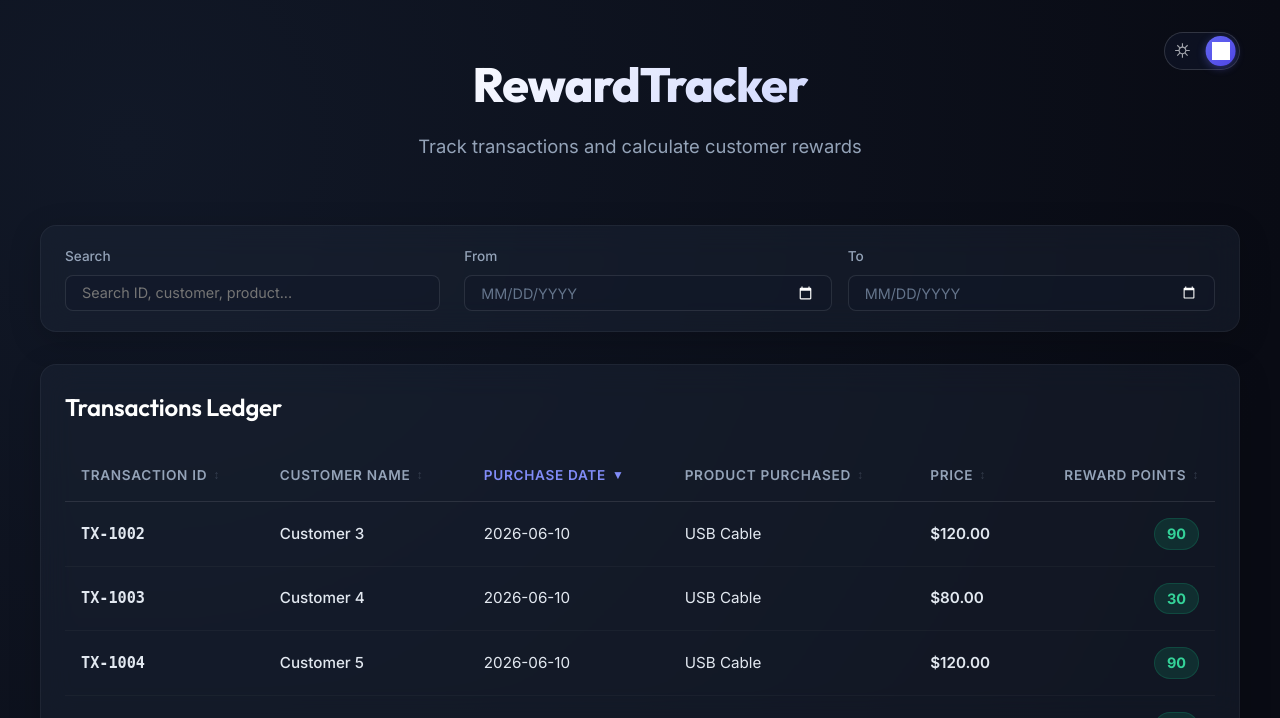
Scenario: App Component Integrations › filters transactions by product name, transaction ID, and customer ID (multi-column search)
Step 1. Type "wireless" into the field with test id "search-input" → point(253, 293), box [65,275,440,311]
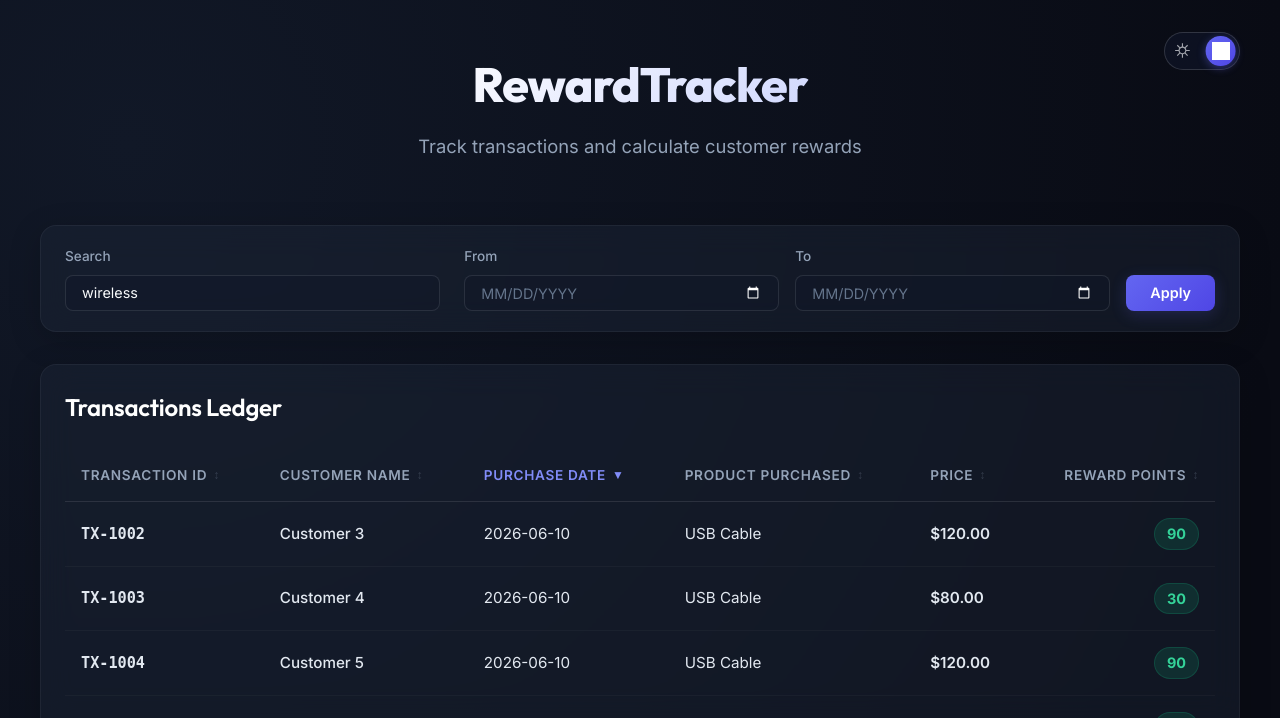
Step 2. Click the button with test id "apply-filters-btn" → point(1171, 293), box [1126,275,1215,311]
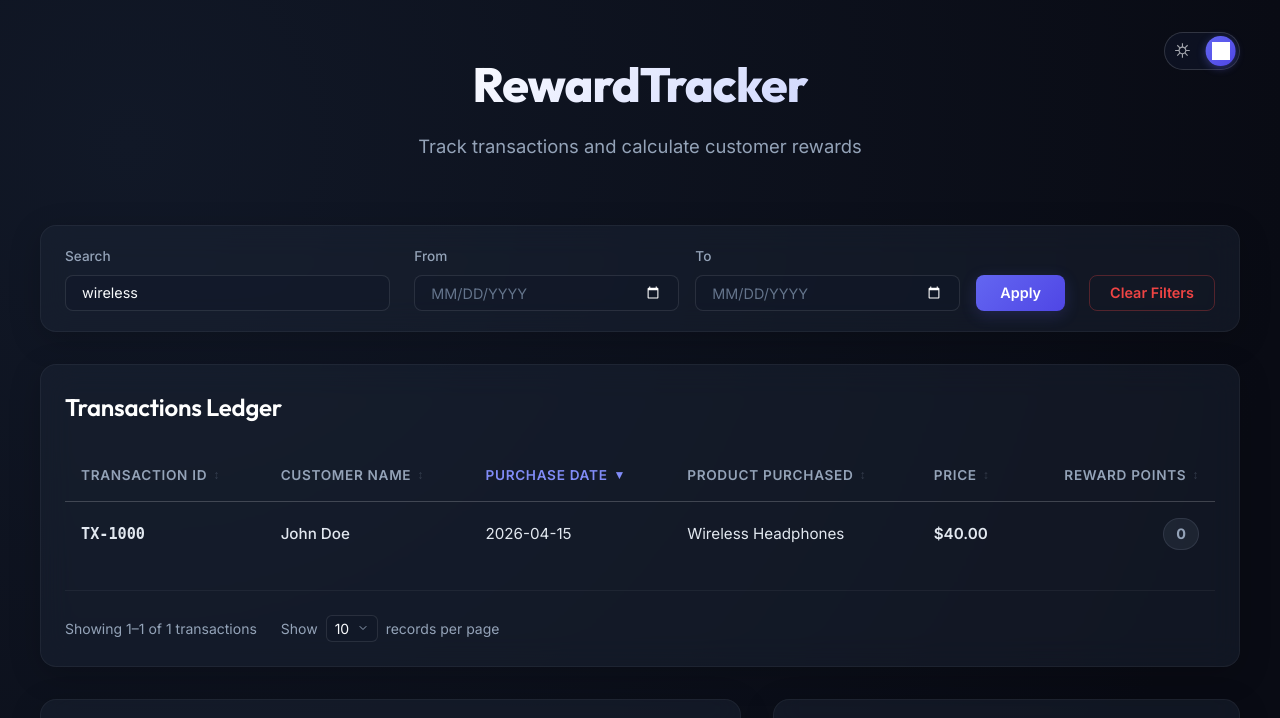
Expected: the text with test id "pagination-stats" reads "Showing 1–1 of 1 transactions", [65,618,257,639]
Expected: the text "Wireless Headphones" is shown, [671,502,918,566]
Step 3. Replace the text in the field with test id "search-input" with "TX-1001" → point(228, 293), box [65,275,390,311]
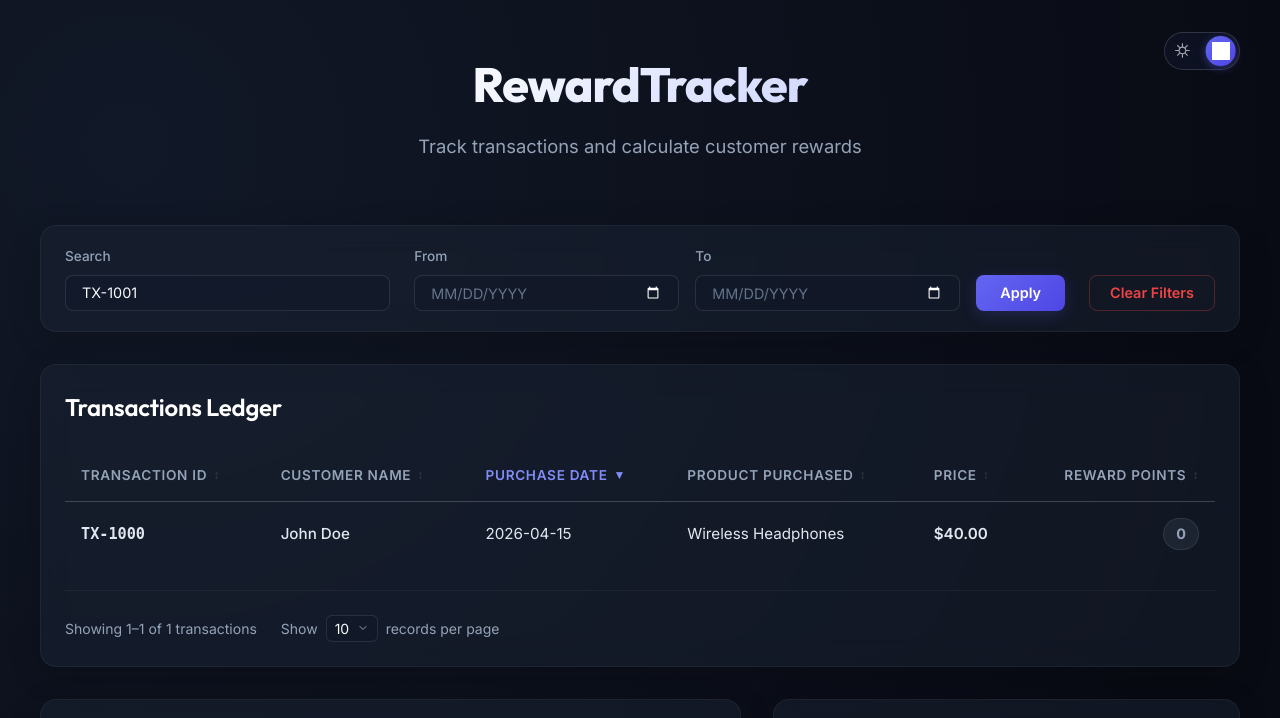
Step 4. Click the button with test id "apply-filters-btn" → point(1021, 293), box [976,275,1065,311]
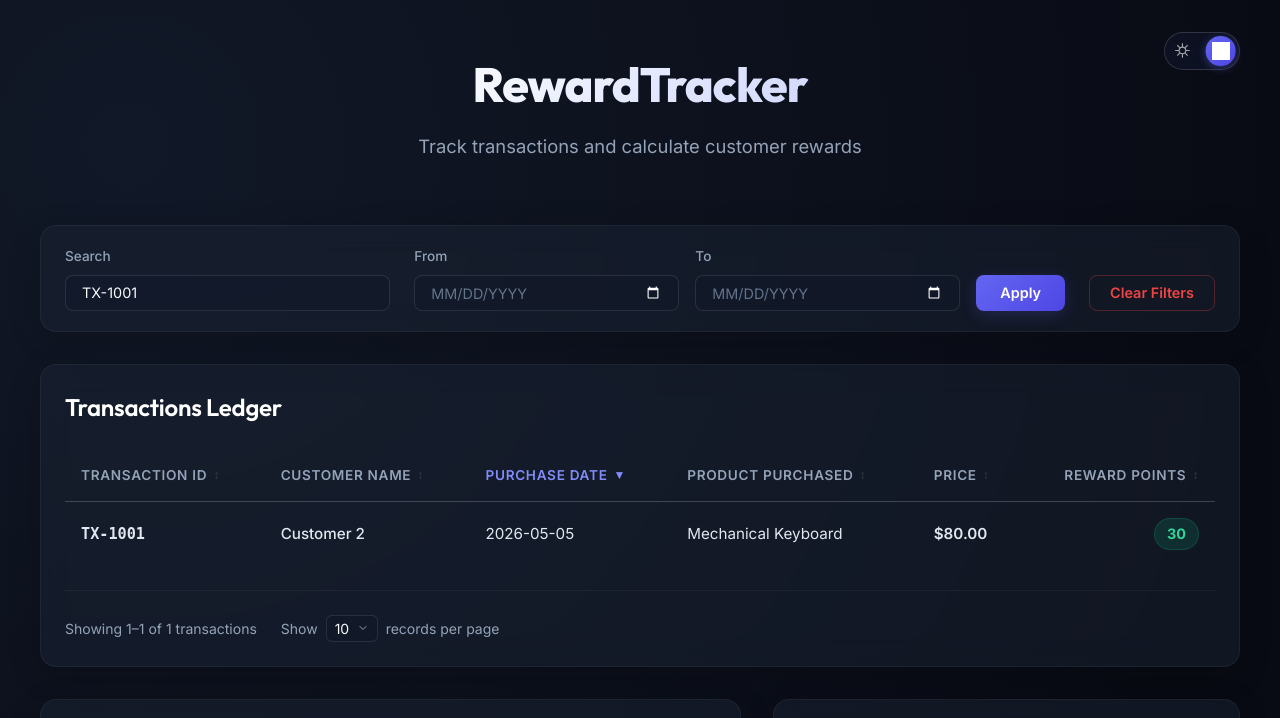
Expected: the text with test id "pagination-stats" reads "Showing 1–1 of 1 transactions", [65,618,257,639]
Expected: the text "Mechanical Keyboard" is shown, [671,502,918,566]
Step 5. Replace the text in the field with test id "search-input" with "CUST-003" → point(228, 293), box [65,275,390,311]
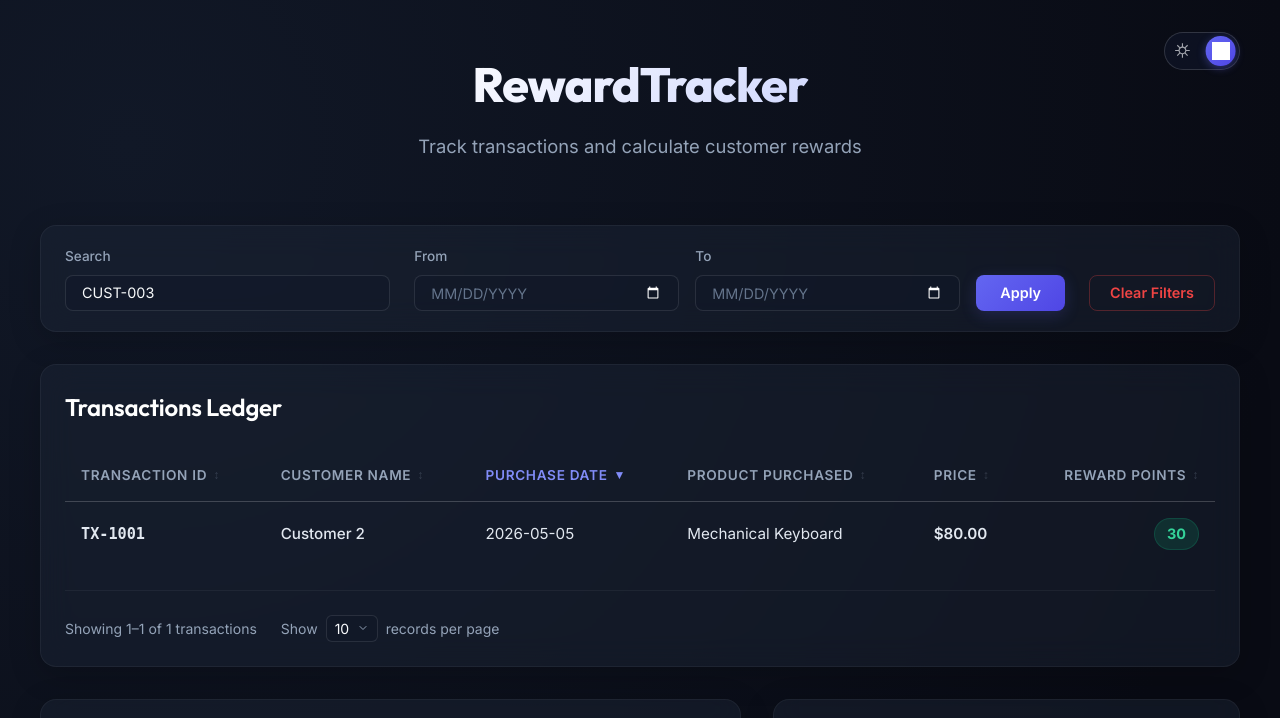
Step 6. Click the button with test id "apply-filters-btn" → point(1021, 293), box [976,275,1065,311]
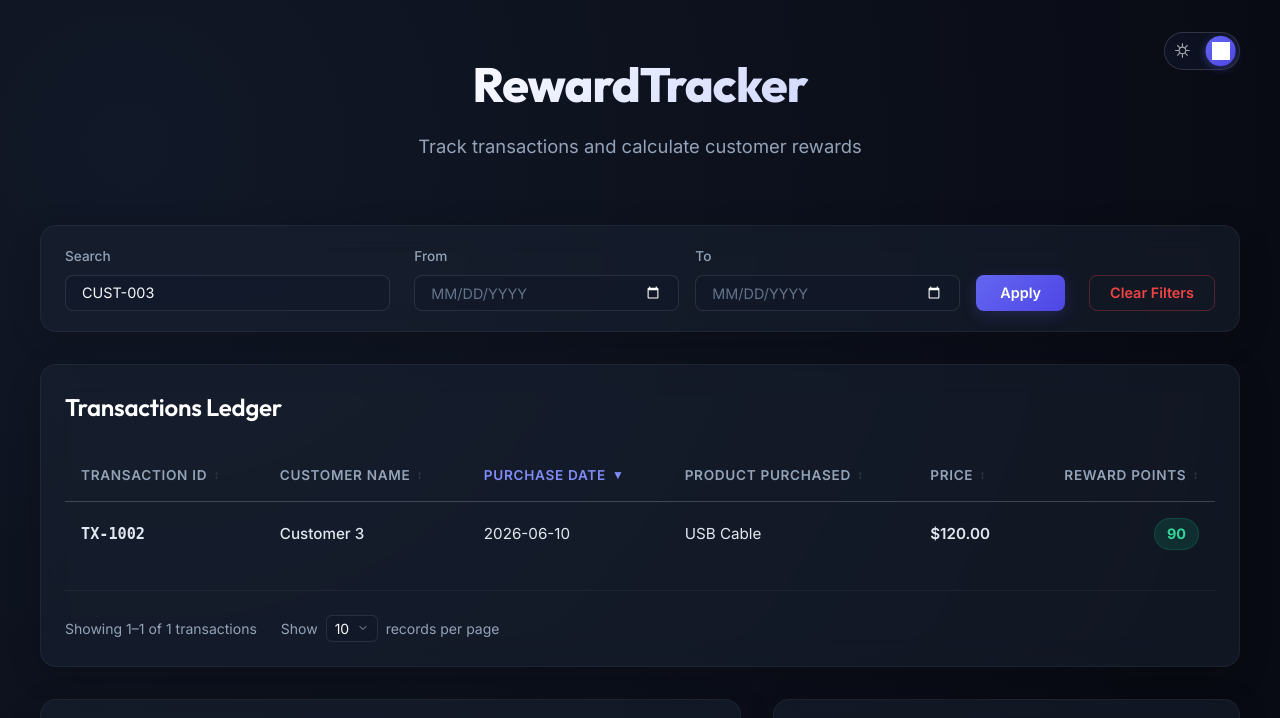
Expected: the text with test id "pagination-stats" reads "Showing 1–1 of 1 transactions", [65,618,257,639]
Expected: the text "USB Cable" is shown, [669,502,914,566]
